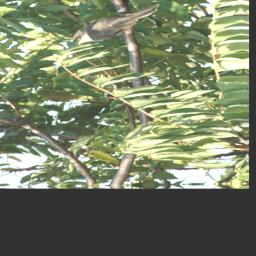Cuckoo: (70, 1, 164, 48)
